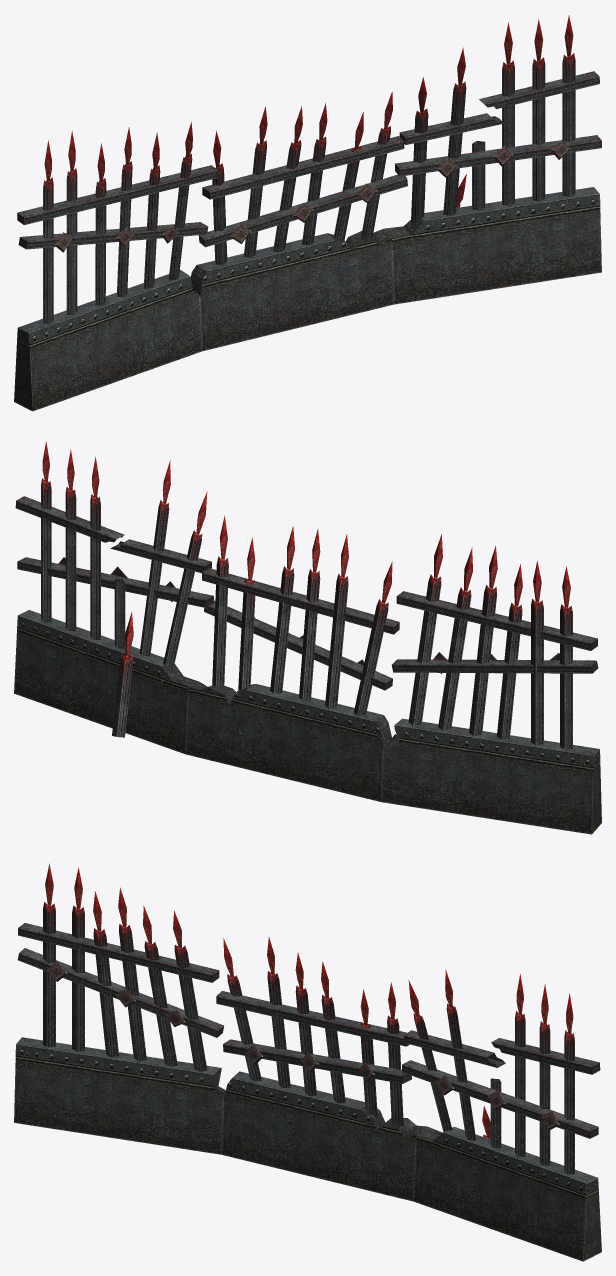
Rendered from flame_fence_02.fbx.
The picture shows the model from 3 angles, top to bottom: view 1: azimuth 30°, elevation 25°; view 2: azimuth 150°, elevation 25°; view 3: azimuth 330°, elevation 25°; orthographic projection.
Visible parts, largest first — view 1: flame_fence1_06; view 2: flame_fence1_06; view 3: flame_fence1_06.
Boxes of the visible parts, left/top/right/bottom form: flame_fence1_06: left=14, top=15, right=601, bottom=411; flame_fence1_06: left=14, top=441, right=601, bottom=834; flame_fence1_06: left=14, top=863, right=601, bottom=1261.
Bounding box in the file's own units: 24.88 × 10.65 × 3.17.
